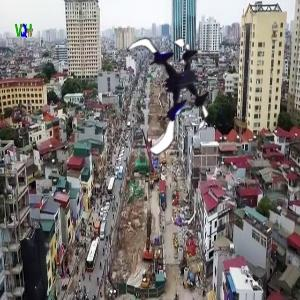drone: (113, 28, 228, 143)
